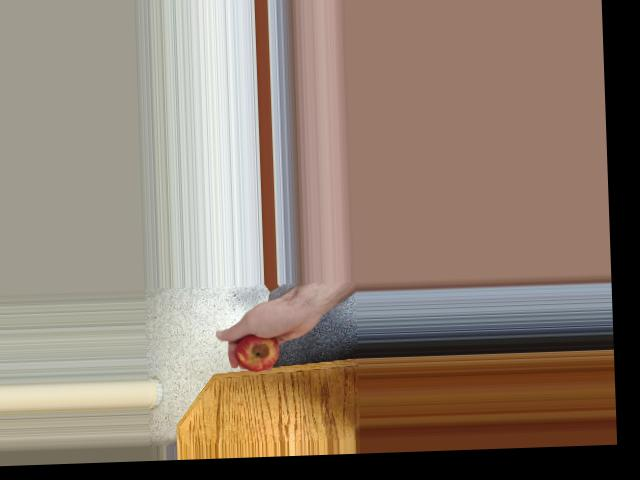apple: (231, 328, 282, 373)
